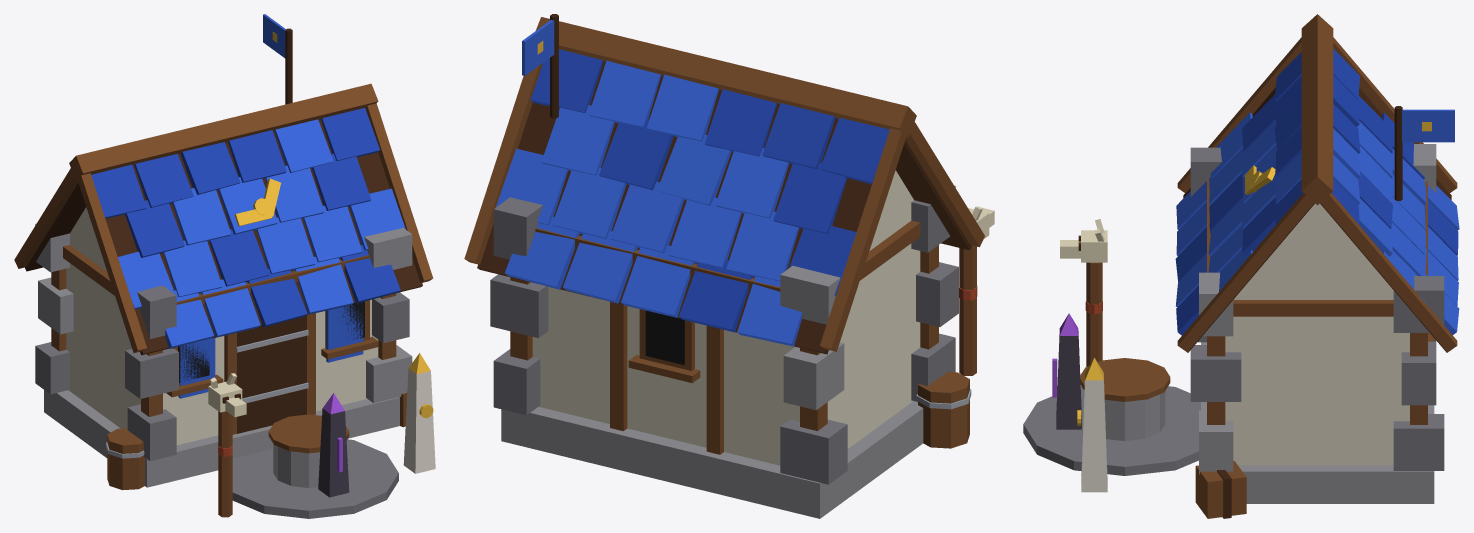
The model's file is PactHall.glb.
The picture shows the model from 3 angles, left to right: view 1: azimuth 30°, elevation 25°; view 2: azimuth 150°, elevation 25°; view 3: azimuth 270°, elevation 25°; orthographic projection. The views are drawn at different scales.
Visible parts, largest first — view 1: PactHall; view 2: PactHall; view 3: PactHall.
Boxes of the visible parts, x1,y1,x2,y2 form: PactHall: (14,14,435,518); PactHall: (464,14,994,518); PactHall: (1023,14,1459,518).
Bounding box in the file's own units: 3.26 × 3.39 × 3.5.
